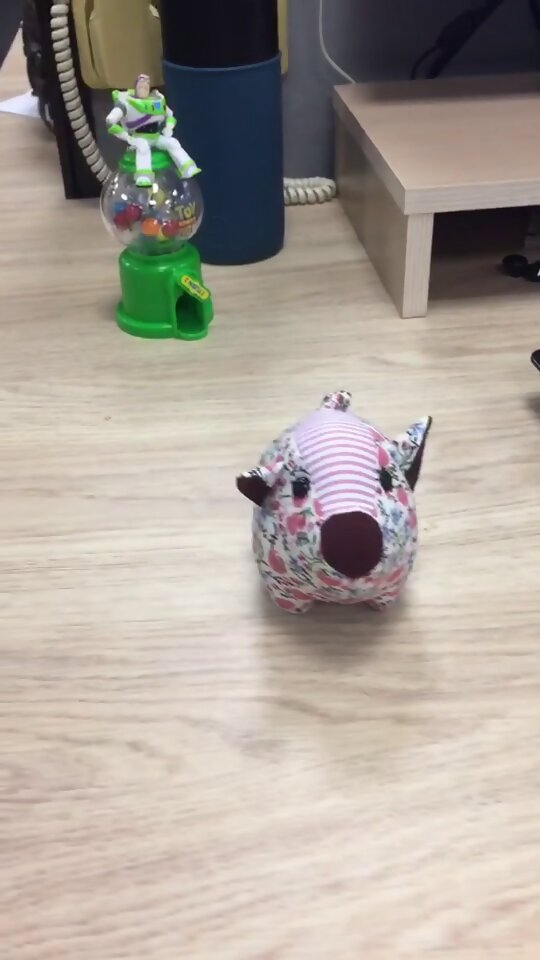pig: (231, 383, 434, 623)
